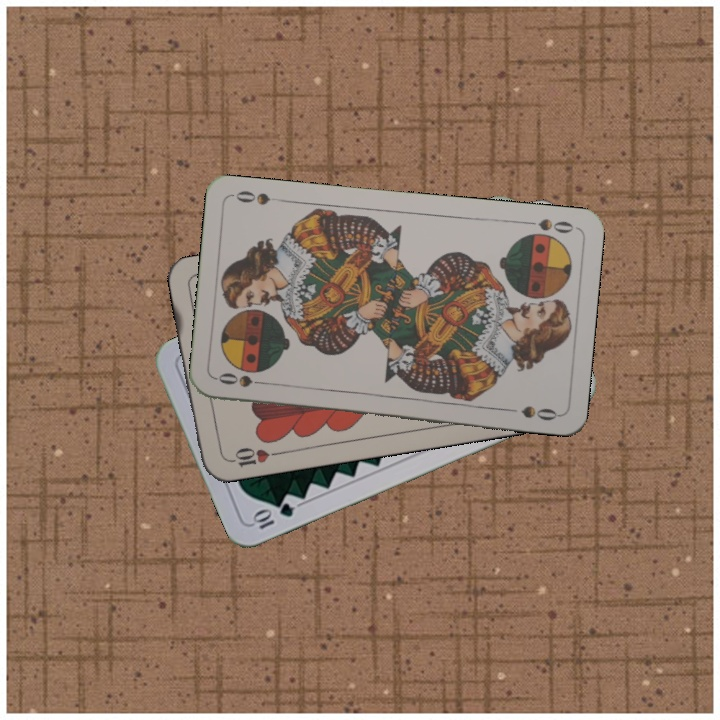G10: (248, 499, 297, 532)
H10: (222, 443, 281, 470)
SO: (213, 368, 272, 390), (519, 214, 576, 236)
